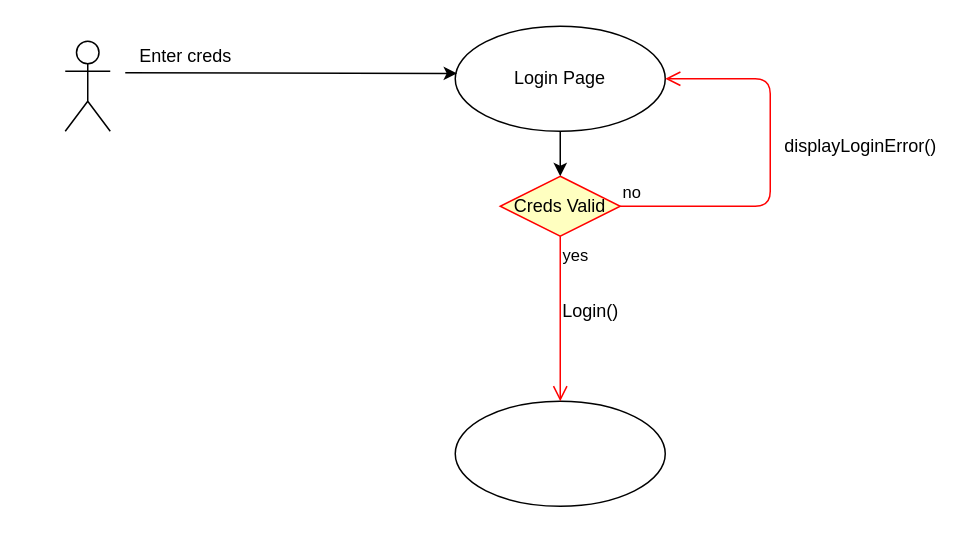
Image size: 977x533. Some labels were removed from this diagram. The centre of each missing label's shape, as x and y in pixels:
"Account Holder" goes at point (87, 85).
"Home Page" goes at point (559, 453).
